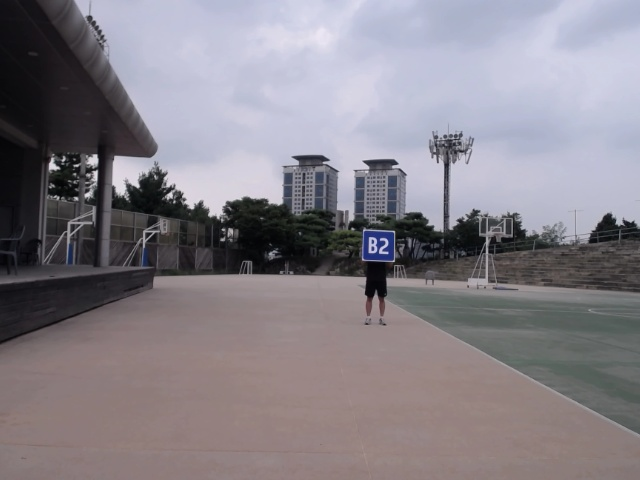delivery_b2: (362, 230, 397, 264)
